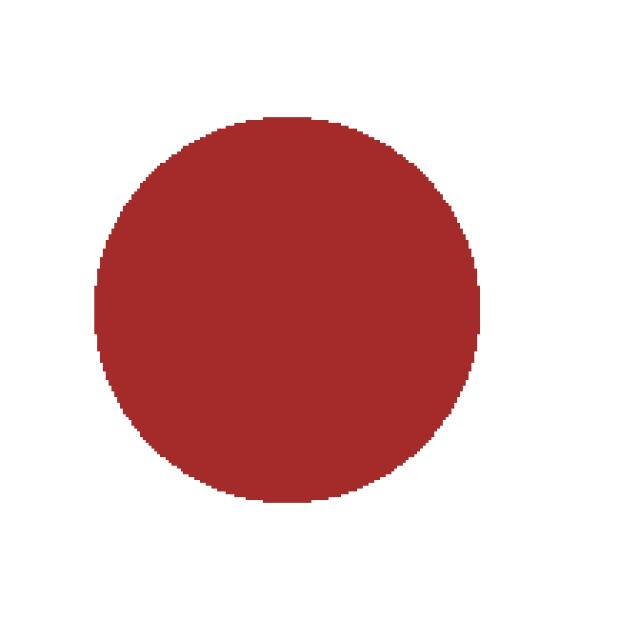Circle: (64, 81, 523, 516)
